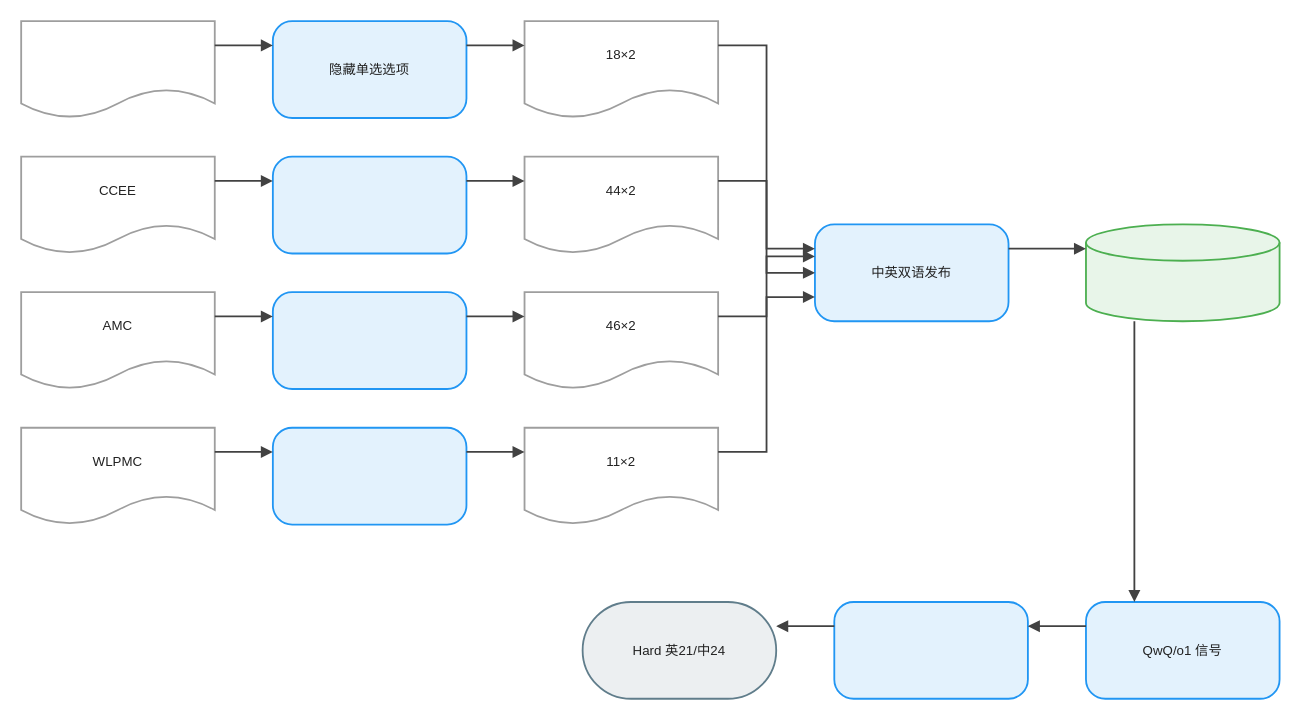
Image size: 1302x721. Some labels were removed from this diagram. The box of each missing label's shape, as (x1, y1, x2, y2) in pixels:
CNMO: (20, 20, 215, 118)
Full 119×2: (1085, 223, 1280, 322)
低准确率派生: (833, 601, 1028, 699)
移除 A-E 选项: (271, 291, 467, 389)
筛除/去选项: (271, 155, 467, 254)
近期试题: (271, 426, 467, 525)
